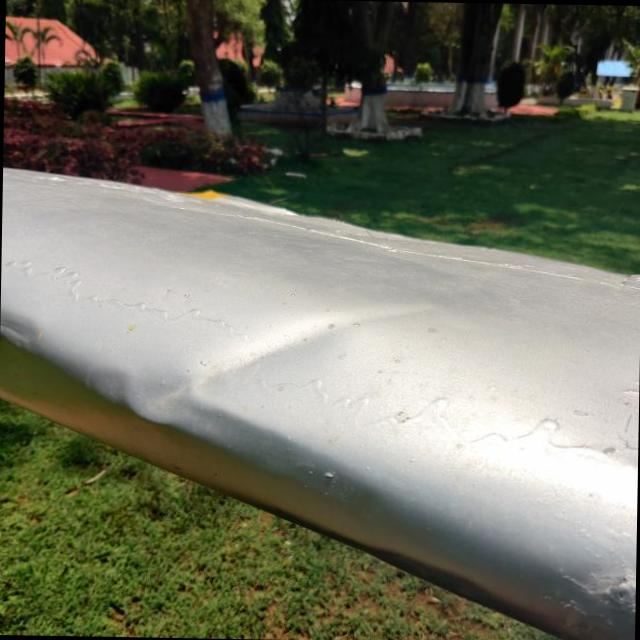Dent: (68, 278, 414, 479), (0, 308, 46, 360)
